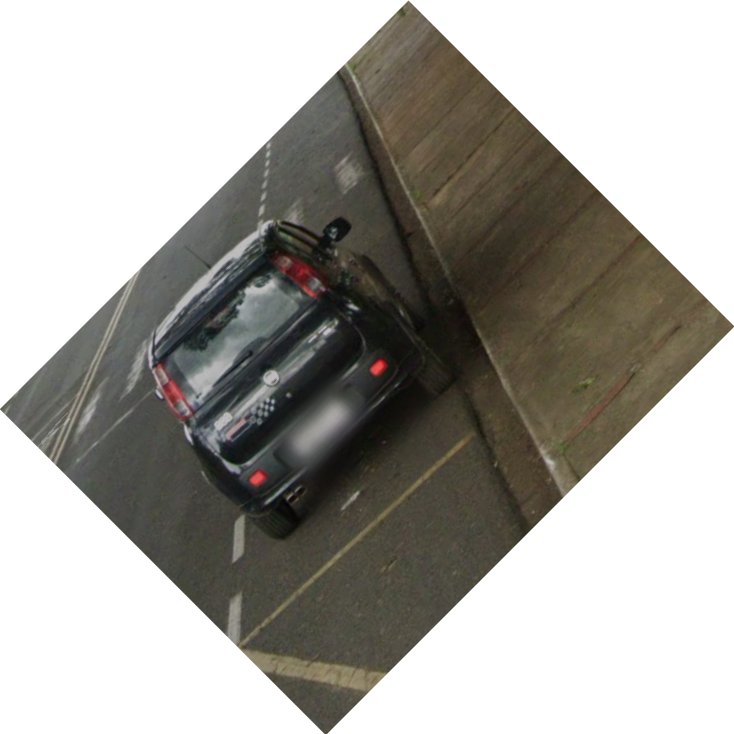car: (130, 213, 459, 559)
